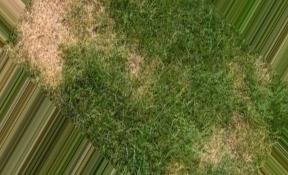patch: (62, 2, 108, 45), (29, 12, 58, 73), (217, 130, 262, 160), (127, 56, 155, 82), (234, 67, 245, 94)
